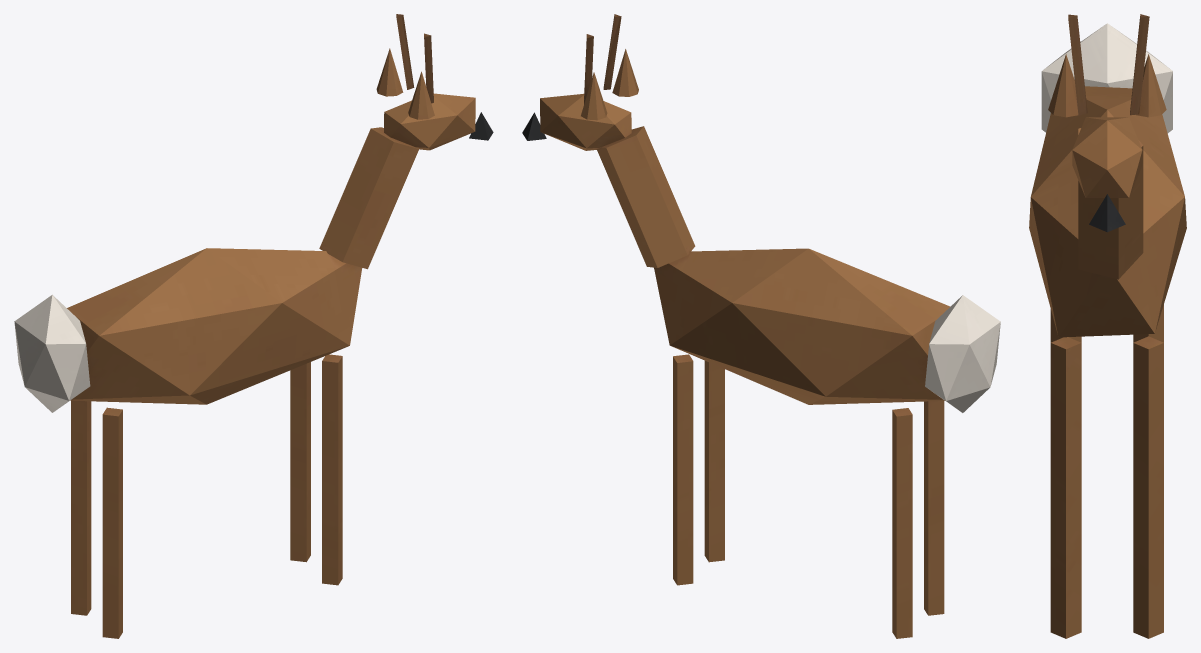
Rendered from radjur_tex.glb.
3 renders of one model, left to right at view 1: azimuth 30°, elevation 25°; view 2: azimuth 150°, elevation 25°; view 3: azimuth 270°, elevation 25°, orthographic. The views are drawn at different scales.
Visible parts, largest first — view 1: radjur; view 2: radjur; view 3: radjur.
Part boxes in pixels (<box>): radjur: <box>14,14,493,638</box>; radjur: <box>522,14,1000,638</box>; radjur: <box>1029,14,1186,638</box>.
Bounding box in the file's own units: 1.37 × 1.45 × 0.3062.
Materials: 4 (4 with a texture image).
